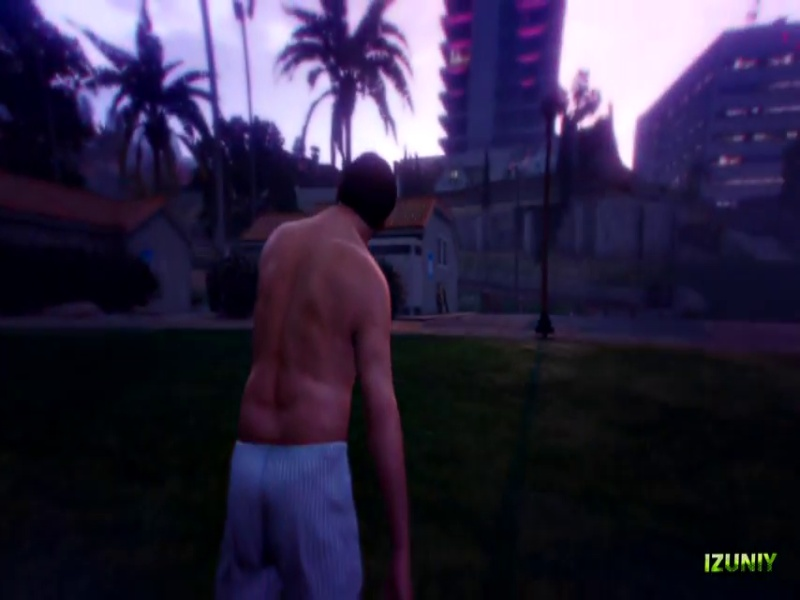human: (209, 148, 415, 600)
